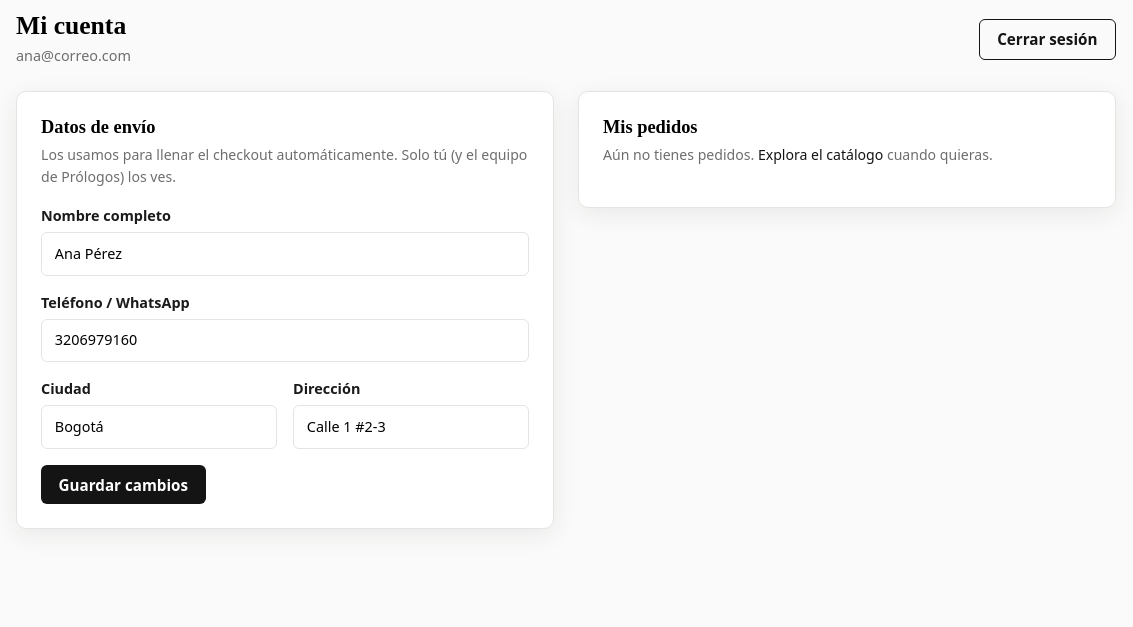
Test: CuentaPage: con sesión › guarda los datos recortados y sin espacios de más
This screenshot has width=1133, height=627.
Replace the text in the field labelled "Nombre completo" with "  Ana Pérez  ". click: [285, 254]
box: left=41, top=232, right=529, bottom=276
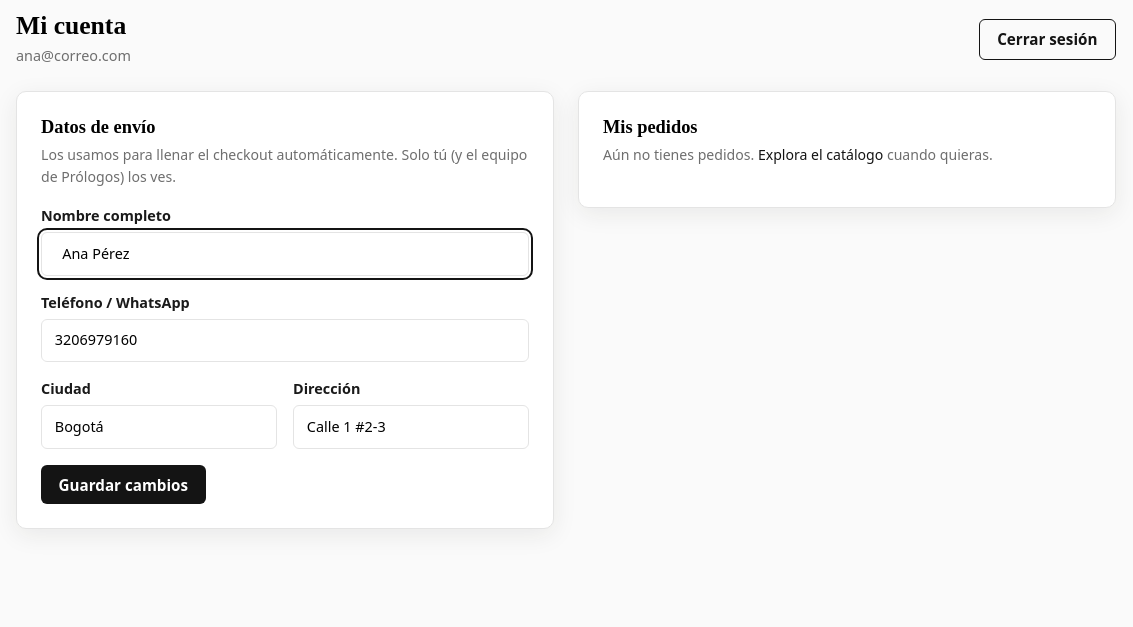
Click the button "Guardar cambios". click: [123, 484]
box: left=41, top=465, right=206, bottom=504
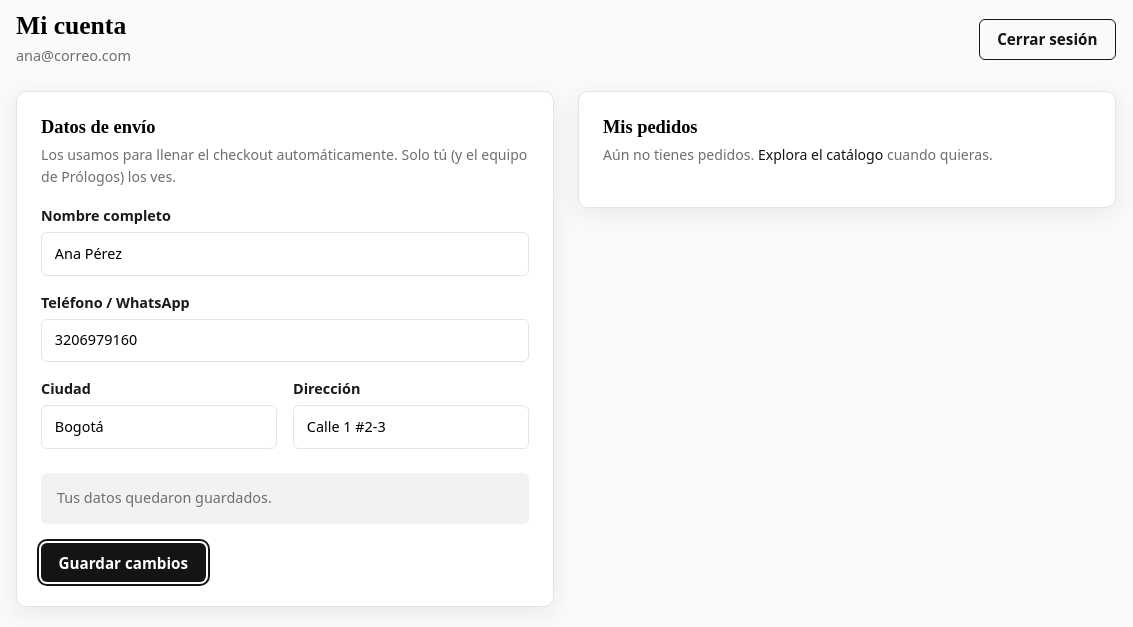
Expected: the text "Tus datos quedaron guardados." is shown, left=41, top=473, right=529, bottom=524
